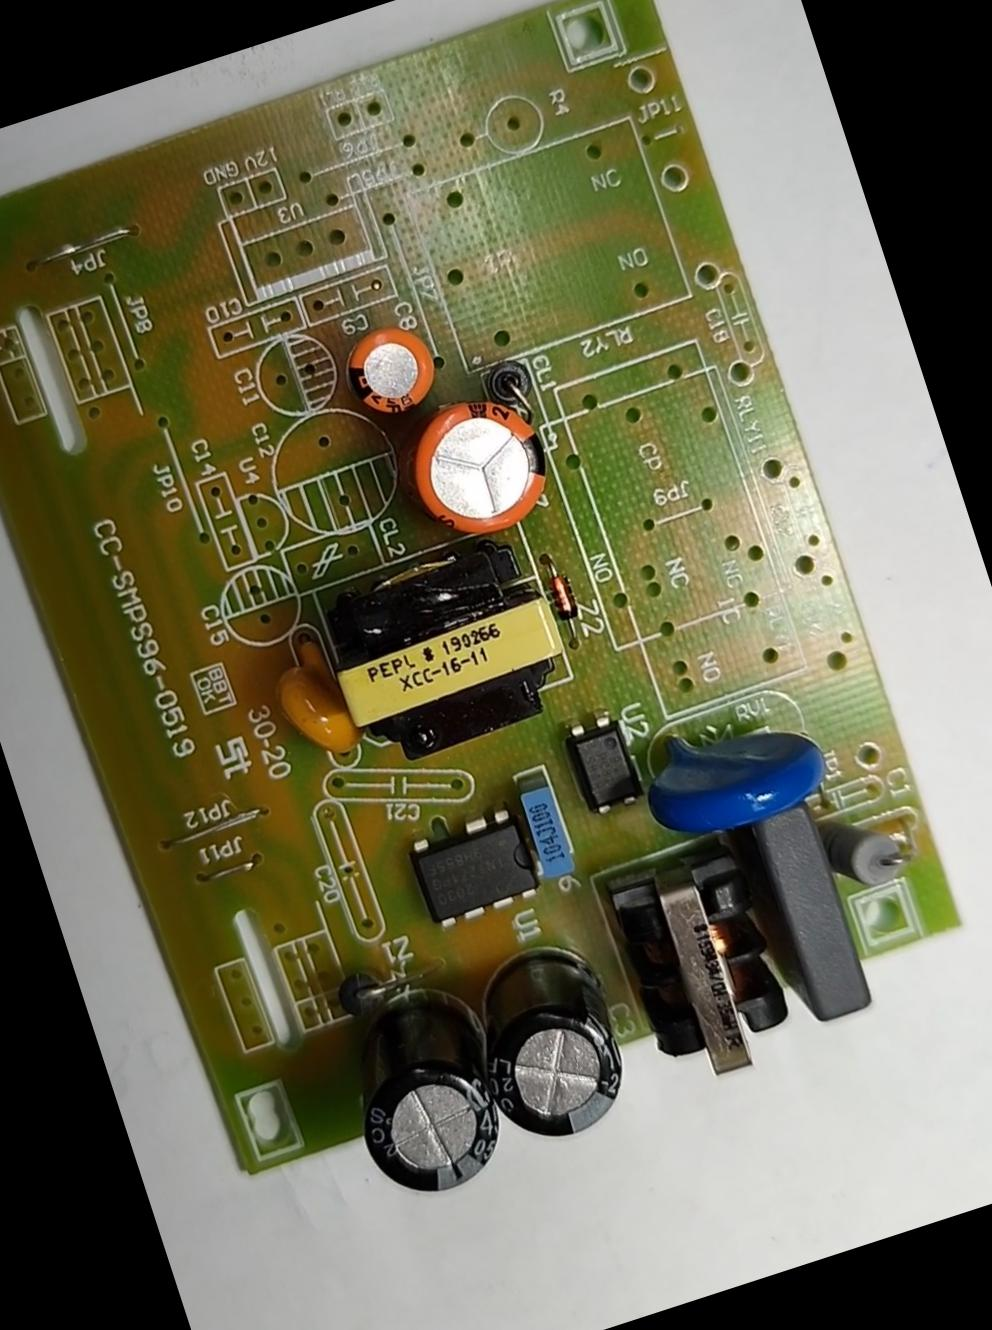Cap1: (385, 370, 570, 558)
Cap2: (333, 311, 450, 429)
Cap3: (450, 927, 649, 1156)
Cap4: (323, 975, 519, 1212)
MOSFET: (396, 796, 547, 937)
Mov: (628, 684, 840, 852)
Resistor: (813, 791, 918, 900)
Transformer: (312, 535, 587, 781), (598, 845, 812, 1103)
